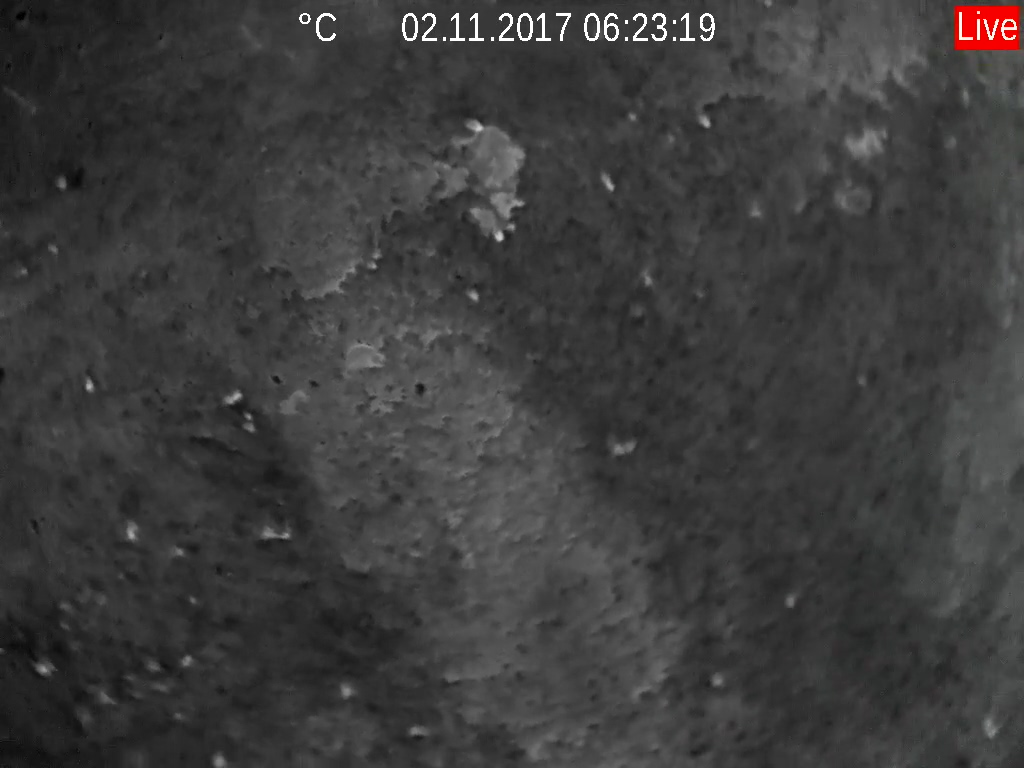warren: (446, 114, 526, 243), (254, 517, 295, 545), (592, 163, 618, 195), (690, 108, 715, 131), (219, 390, 245, 407)
